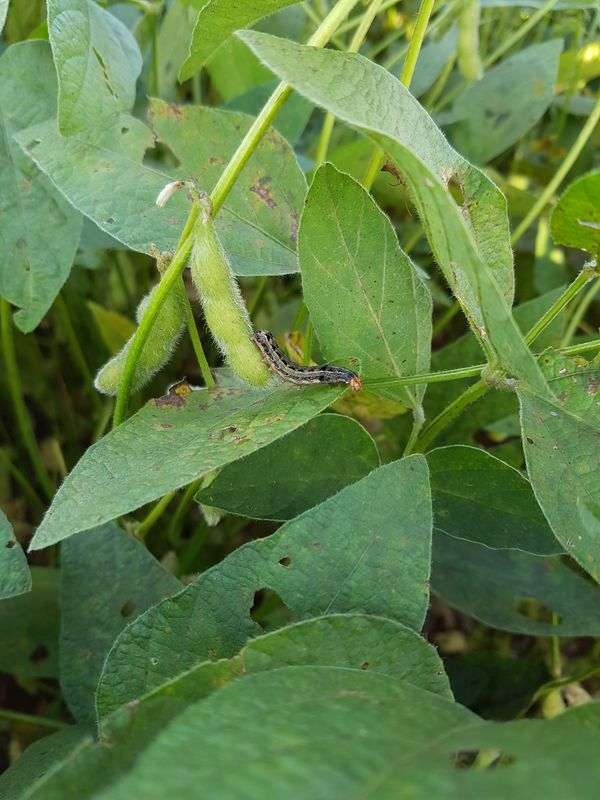Spodoptera_albula: (237, 316, 375, 410)
